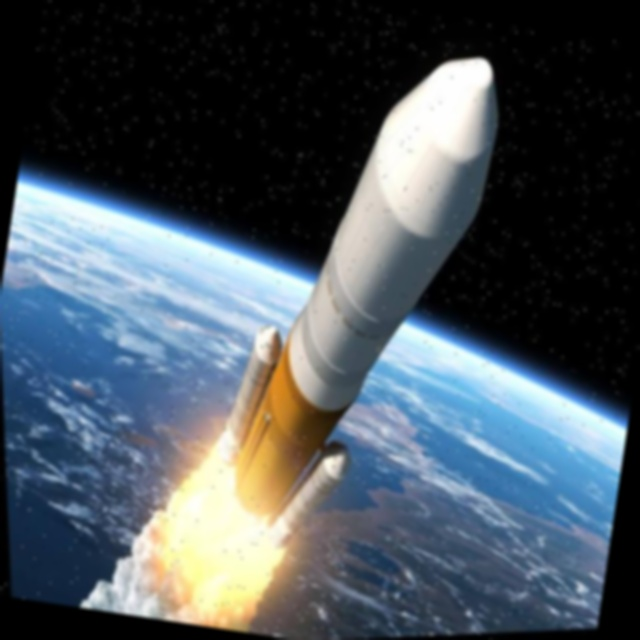rocket: (114, 0, 602, 619)
